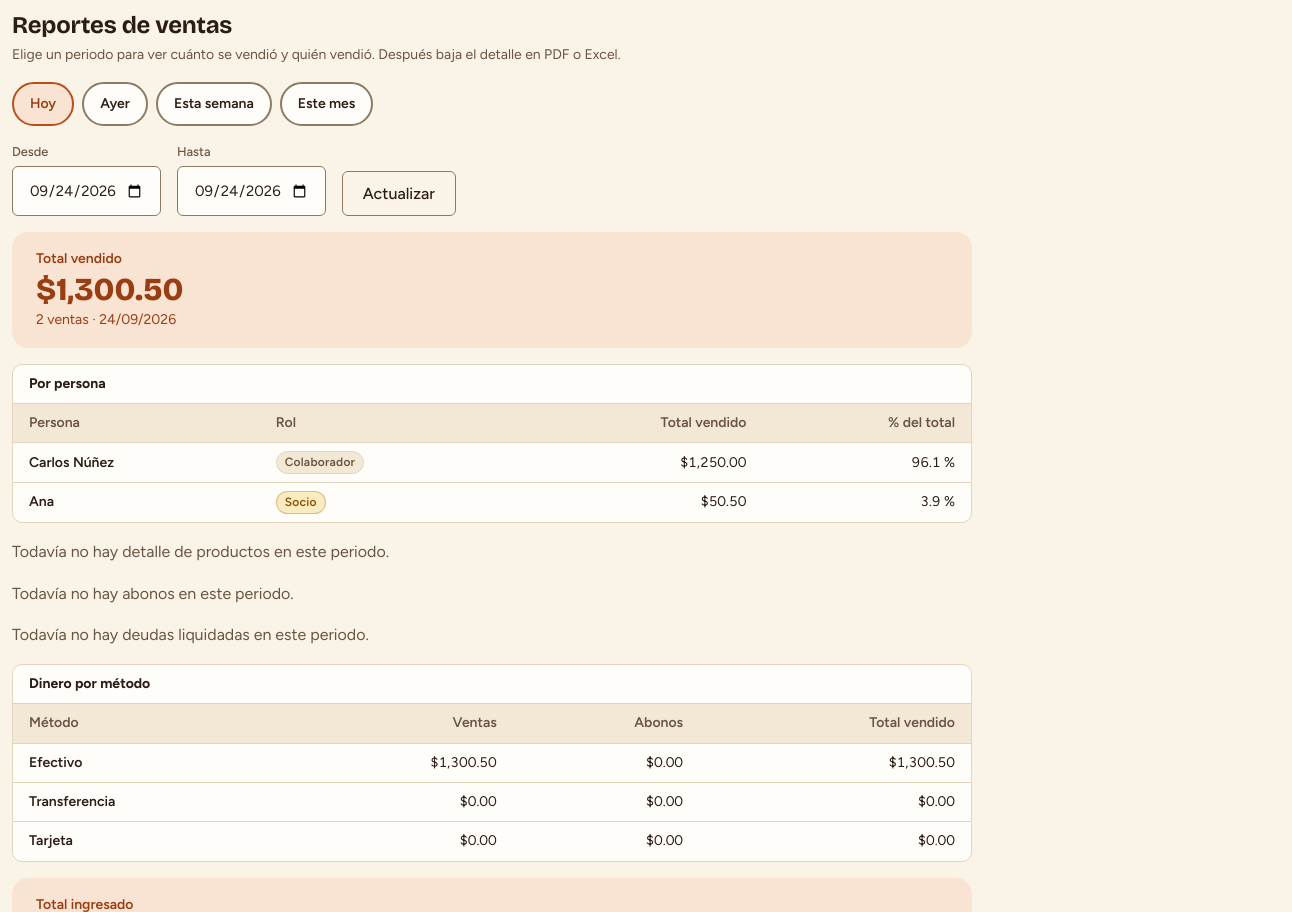
ReportsView — rangos › preset "Este mes" queries {"from":"2026-09-01","to":"2026-09-24"} right away
This screenshot has width=1292, height=912.
Click the button with class "report-range-picker__preset" showing "Este mes".
click(326, 104)  # box [280,82,373,126]
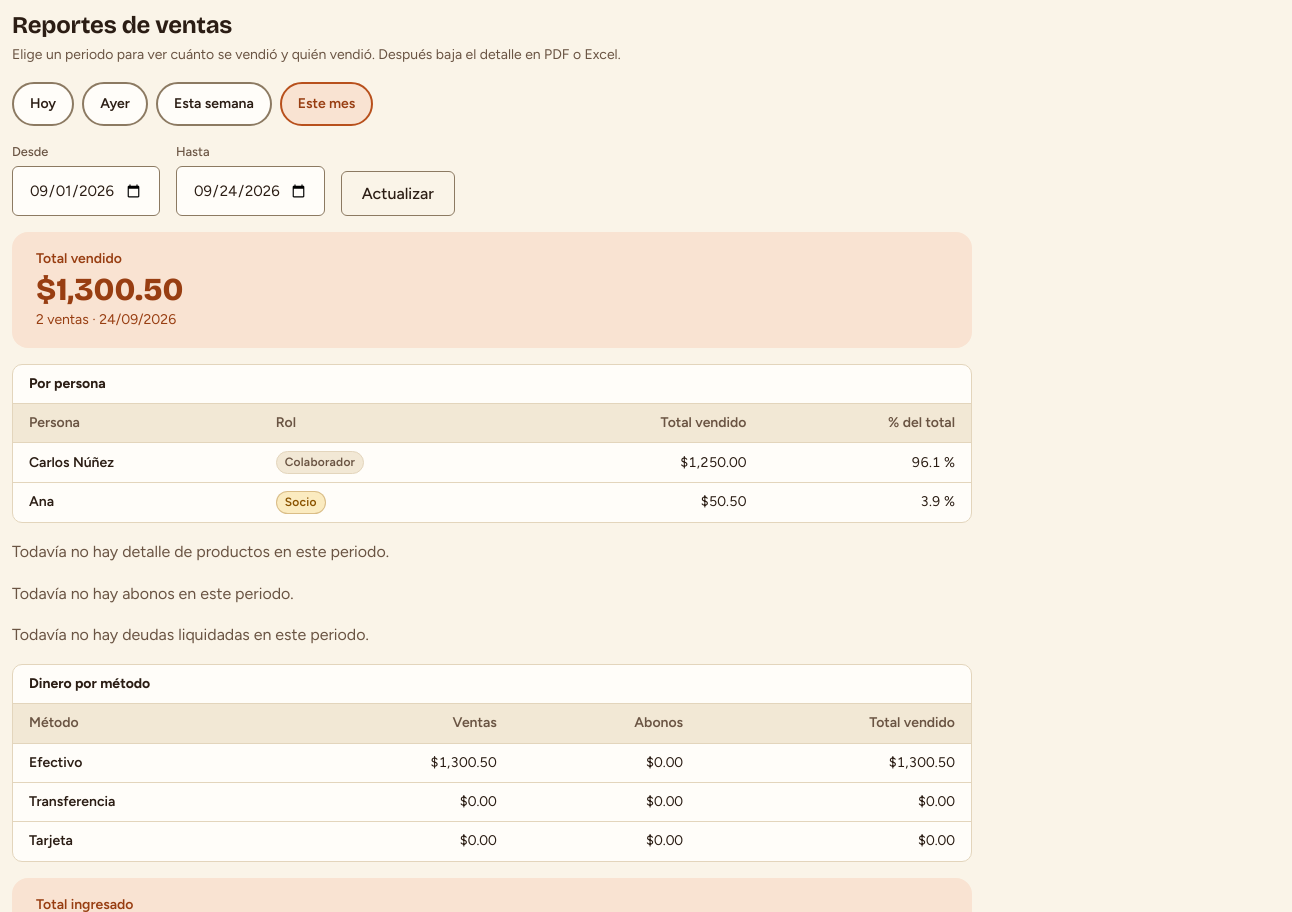
Expected: the date field labelled "Hasta" holds "2026-09-24", [176,166,325,216]
Now the date field labelled "Desde" holds "2026-09-01", box [12,166,160,216]
